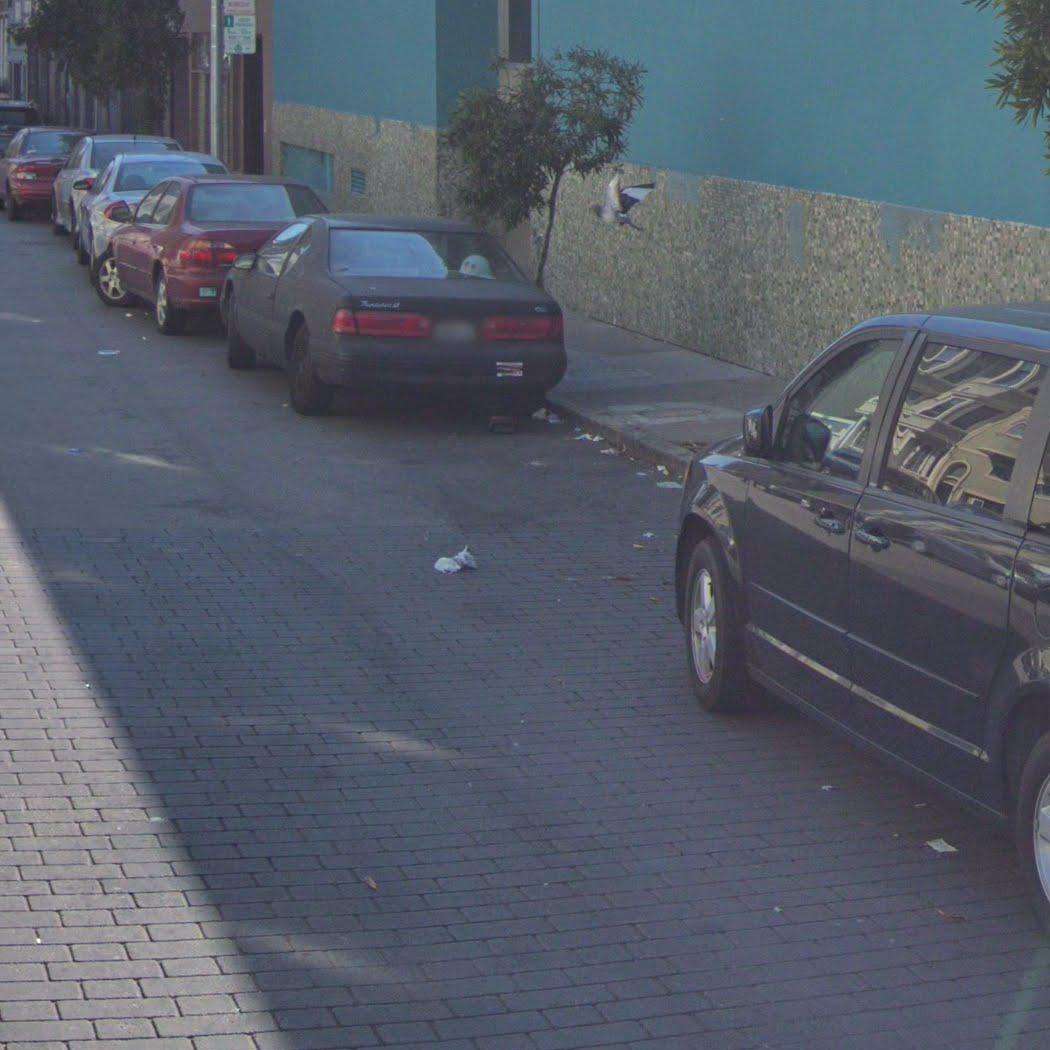1 Hour Parking: (223, 15, 258, 55)
No Parking: (224, 1, 255, 13)
